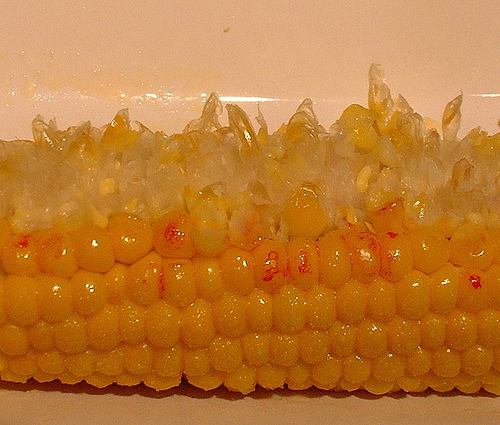corn: (1, 63, 498, 395)
